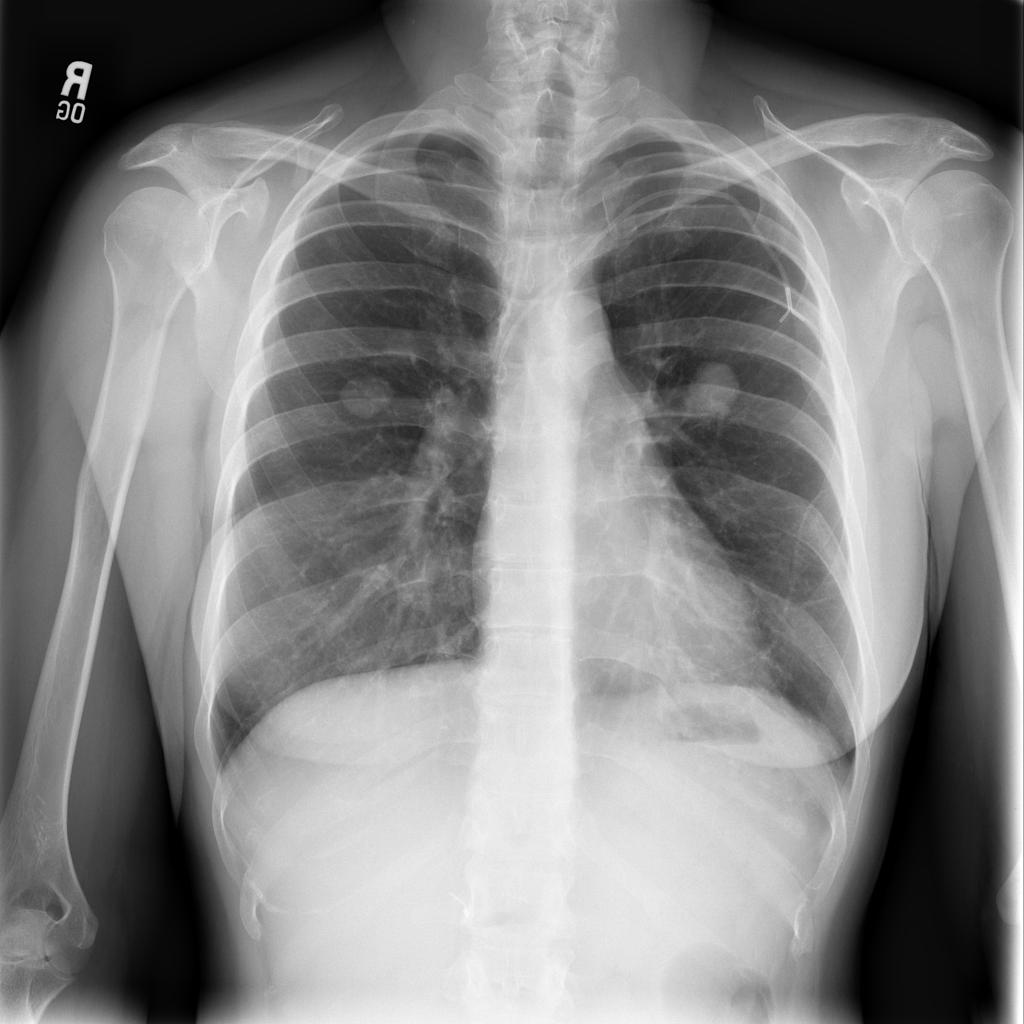nodule: (658, 338, 763, 441), (328, 362, 402, 428), (368, 324, 427, 373)
